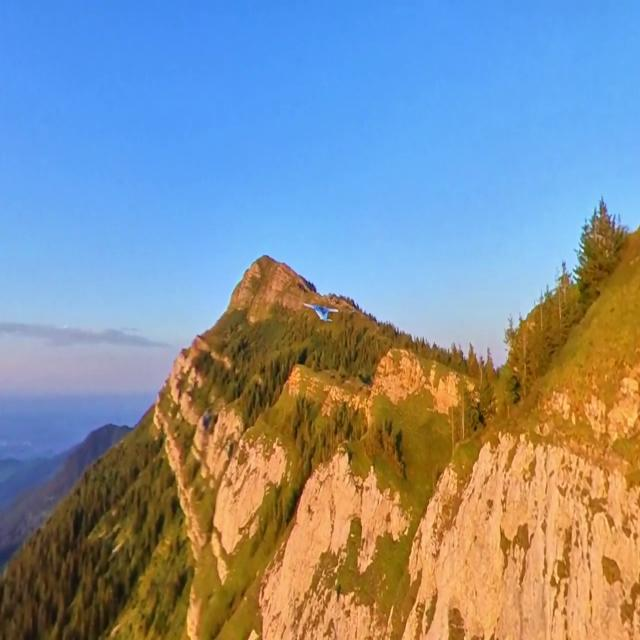iha: (302, 302, 339, 323)
